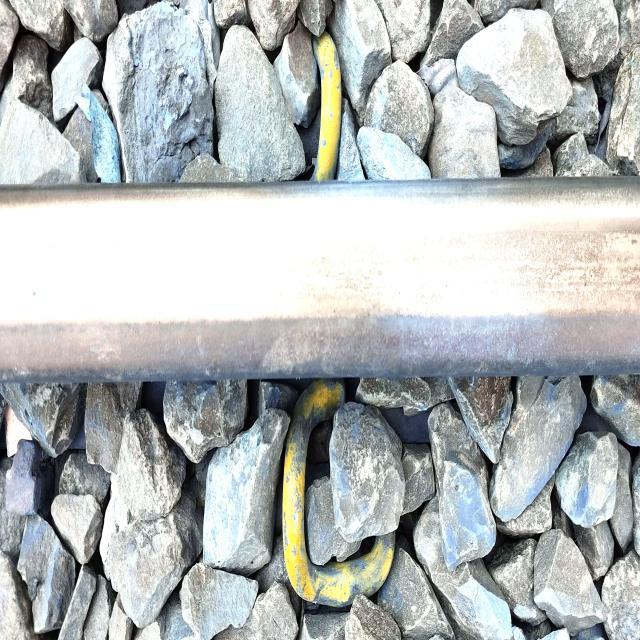Good Fasteners: (282, 380, 394, 604), (312, 32, 342, 181)
